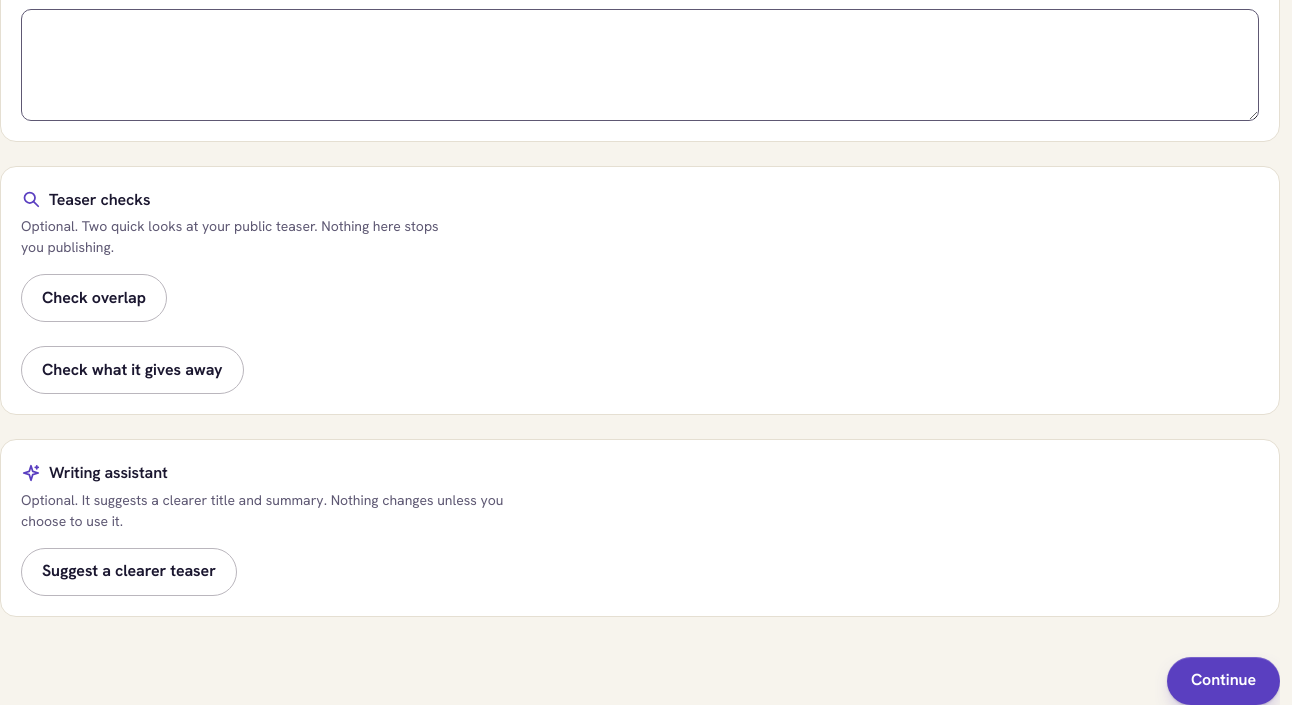
Test: check what it gives away › names ["problem_statement"] after the sentence, so the label reads
(page scrolled)
Click the button "Check what it gives away" at (132, 370), box [21,346,244,394]
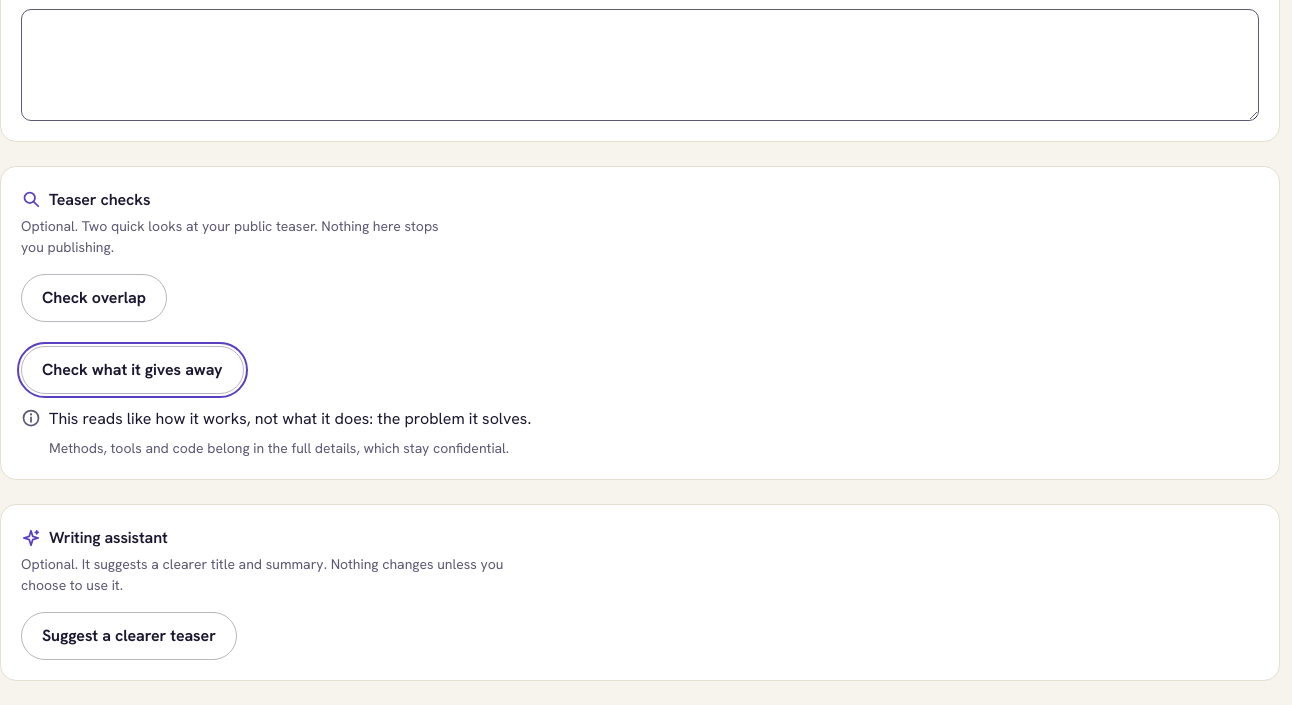
Expected: the text "This reads like how it works, not what it does: the problem it solves." is shown, [21,406,531,432]
